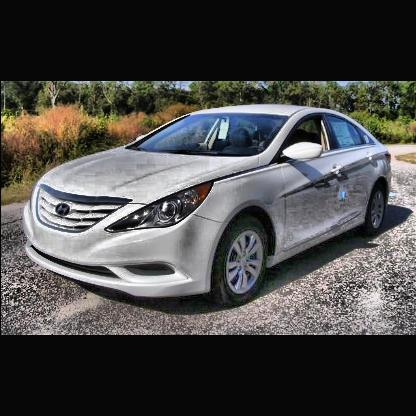Hyundai Sonata Sedan 2012: (16, 98, 402, 306)
